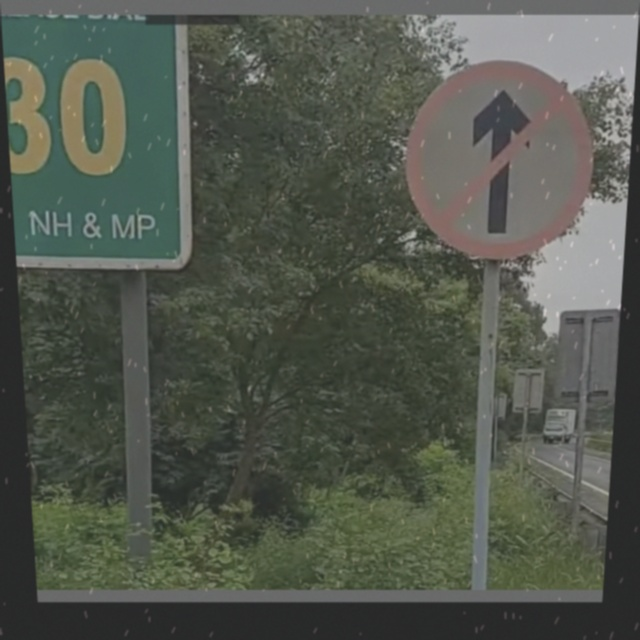No_Entry: (406, 59, 600, 255)
